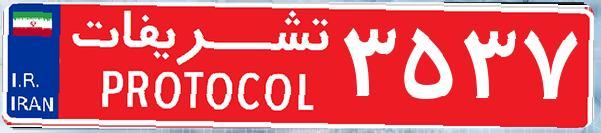3: (340, 20, 400, 115), (460, 20, 520, 115)
5: (400, 20, 460, 115)
7: (520, 20, 580, 115)
تشریفات: (60, 8, 340, 125)
